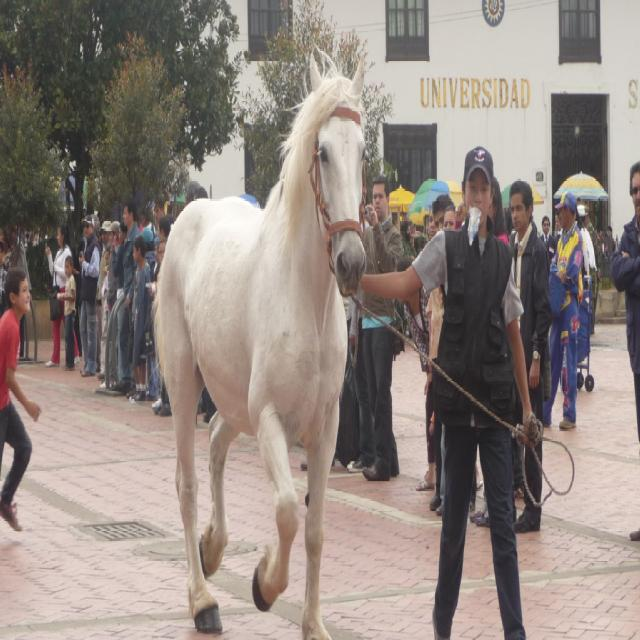Horse: (151, 45, 369, 639)
